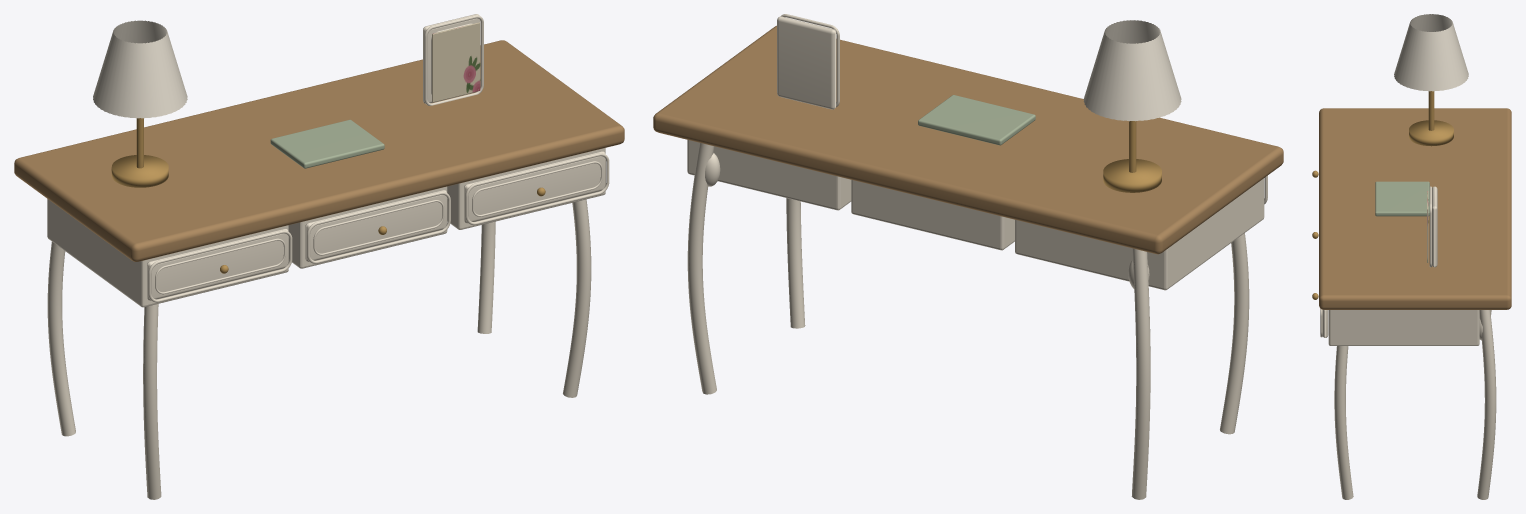
File: desk.glb
3 renders of one model, left to right at view 1: azimuth 30°, elevation 25°; view 2: azimuth 150°, elevation 25°; view 3: azimuth 270°, elevation 25°, orthographic. The views are drawn at different scales.
Visible parts, largest first — view 1: desk__Honey ash exposed edges, desk__Warm aged ivory lacquer, desk__Natural cream linen, desk__Rose botanical print on linen, desk__Sage linen, desk__Antique brass; view 2: desk__Honey ash exposed edges, desk__Warm aged ivory lacquer, desk__Natural cream linen, desk__Sage linen, desk__Antique brass; view 3: desk__Honey ash exposed edges, desk__Warm aged ivory lacquer, desk__Natural cream linen, desk__Sage linen, desk__Antique brass.
Boxes of the visible parts, x1,y1,x2,y2 form: desk__Honey ash exposed edges: (14, 40, 624, 261); desk__Warm aged ivory lacquer: (47, 14, 609, 499); desk__Natural cream linen: (93, 20, 187, 118); desk__Rose botanical print on linen: (432, 22, 480, 102); desk__Sage linen: (270, 119, 384, 168); desk__Antique brass: (111, 118, 545, 273); desk__Honey ash exposed edges: (653, 25, 1283, 254); desk__Warm aged ivory lacquer: (687, 14, 1267, 499); desk__Natural cream linen: (1083, 20, 1181, 121); desk__Sage linen: (918, 95, 1035, 145); desk__Antique brass: (1103, 121, 1161, 192); desk__Honey ash exposed edges: (1319, 108, 1511, 309); desk__Warm aged ivory lacquer: (1320, 186, 1496, 499); desk__Natural cream linen: (1394, 14, 1468, 91); desk__Sage linen: (1375, 181, 1429, 216); desk__Antique brass: (1312, 91, 1453, 299).
Bounding box in the file's own units: 1.4 × 1.13 × 0.621.
6 materials, 1 textured.
